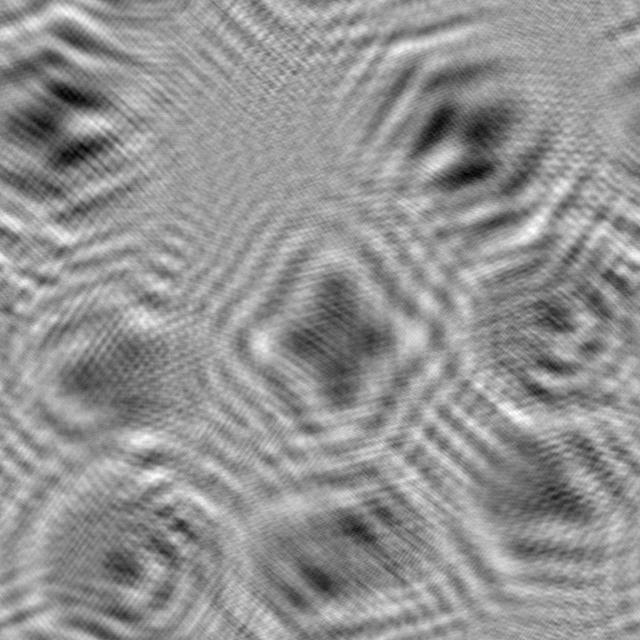U: (424, 189, 640, 438), (0, 450, 253, 640)
V: (424, 410, 640, 594)
W: (323, 12, 587, 253), (0, 0, 181, 240)
X: (206, 209, 449, 464)
Y: (0, 261, 237, 468)
Z: (207, 448, 451, 640)
